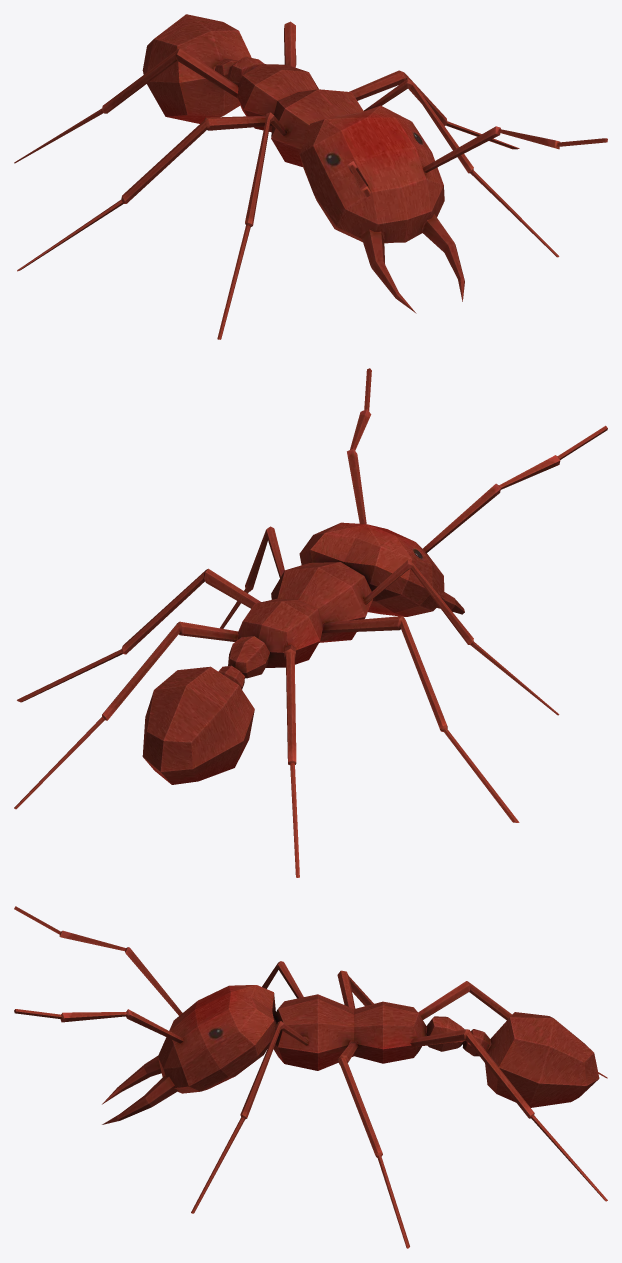
Rendered from 8Ry1m9dbzhK.glb.
The picture shows the model from 3 angles, top to bottom: view 1: azimuth 30°, elevation 25°; view 2: azimuth 150°, elevation 25°; view 3: azimuth 270°, elevation 25°; orthographic projection. The views are drawn at different scales.
Visible parts, largest first — view 1: LeafCutterAnt_mesh; view 2: LeafCutterAnt_mesh; view 3: LeafCutterAnt_mesh.
Boxes of the visible parts, x1=… form: LeafCutterAnt_mesh: x1=14, y1=14, x2=607, y2=339; LeafCutterAnt_mesh: x1=14, y1=368, x2=607, y2=877; LeafCutterAnt_mesh: x1=14, y1=906, x2=607, y2=1248.
Bounding box in the file's own units: 2.59 × 1 × 2.96.
Materials: 1 (1 with a texture image).
